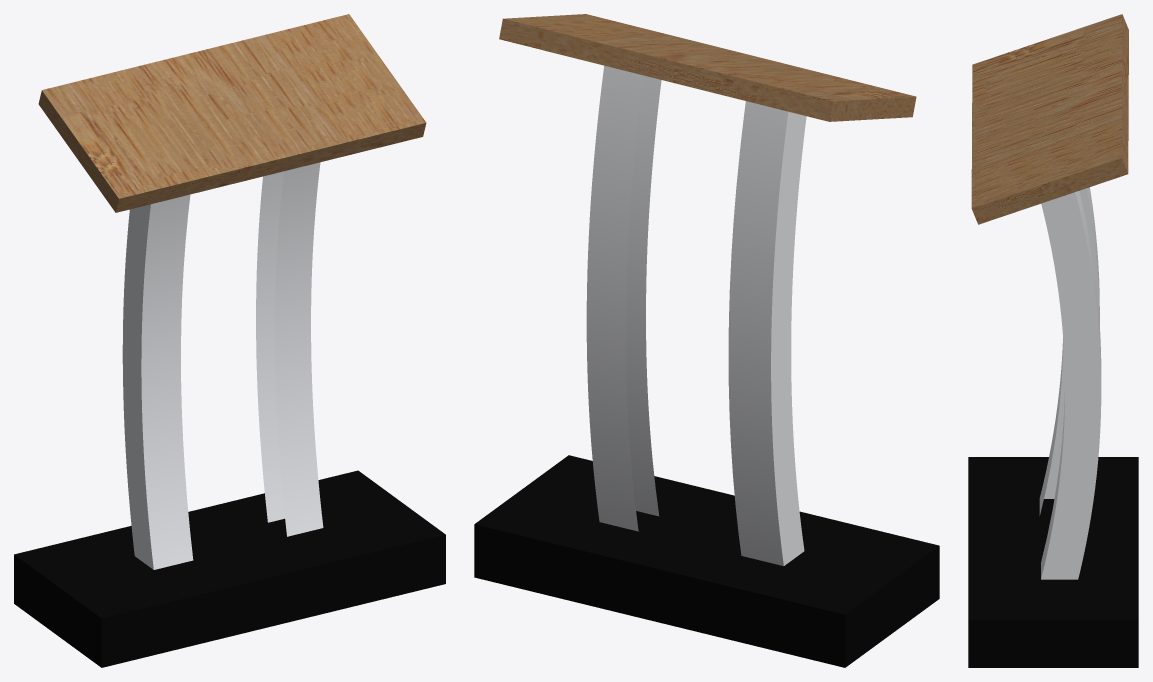
The model's file is podium2.dae.
3 views of the same model, side by side, from view 1: azimuth 30°, elevation 25°; view 2: azimuth 150°, elevation 25°; view 3: azimuth 270°, elevation 25° (orthographic). The views are drawn at different scales.
Visible parts, largest first — view 1: Extrusion (×2), Brep (×2); view 2: Extrusion (×2), Brep (×2); view 3: Extrusion (×2), Brep (×2).
Boxes of the visible parts, left/top/right/bottom form: Extrusion (×2): left=14, top=14, right=445, bottom=667; Brep (×2): left=122, top=162, right=323, bottom=569; Extrusion (×2): left=474, top=14, right=939, bottom=667; Brep (×2): left=586, top=65, right=806, bottom=566; Extrusion (×2): left=968, top=14, right=1138, bottom=667; Brep (×2): left=1039, top=187, right=1101, bottom=579.
Bounding box in the file's own units: 12.24 × 5.4 × 17.56.
